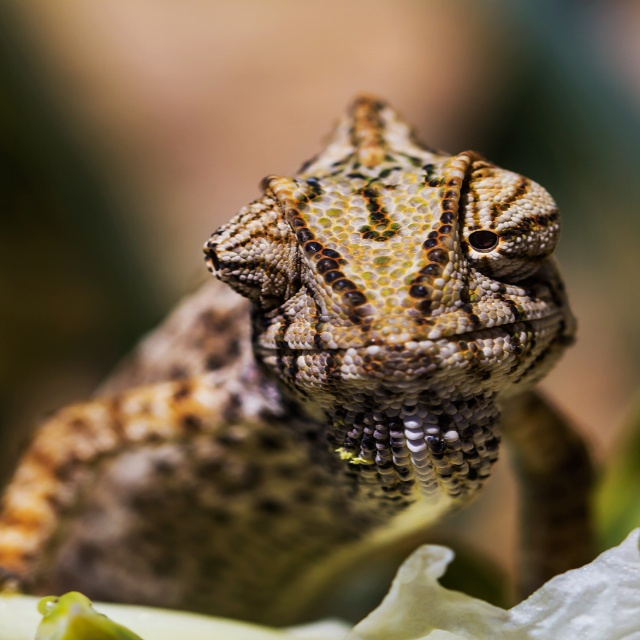Lizard: (3, 94, 576, 628)
